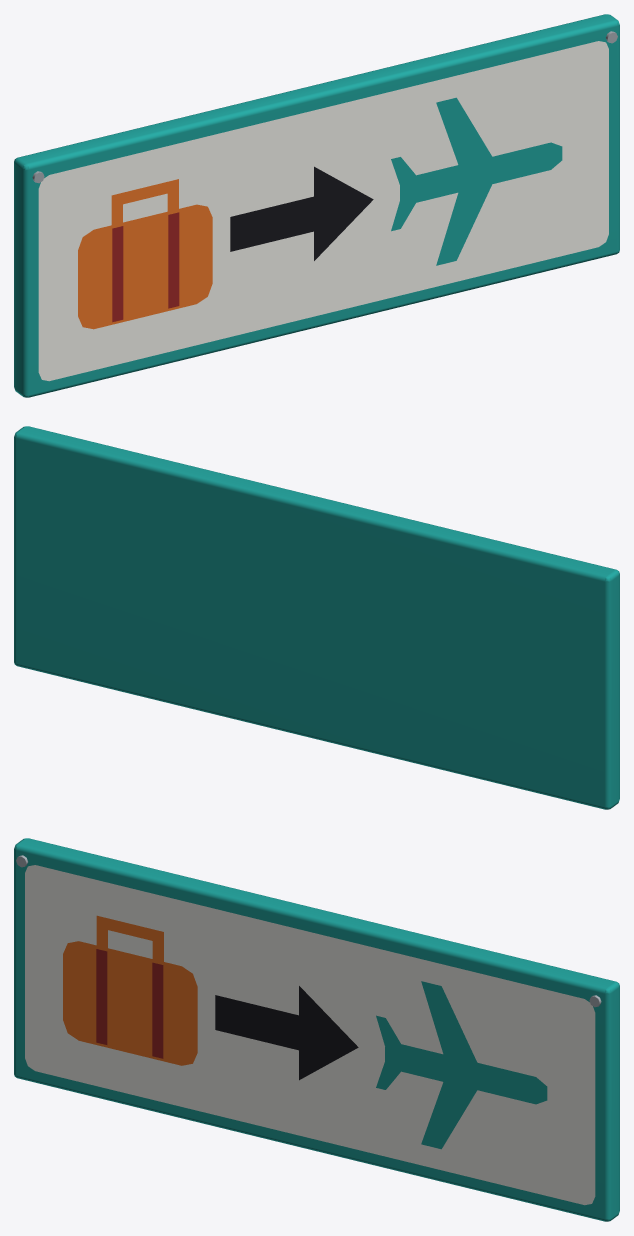
File: CartelSalida.fbx
The picture shows the model from 3 angles, top to bottom: view 1: azimuth 30°, elevation 25°; view 2: azimuth 150°, elevation 25°; view 3: azimuth 330°, elevation 25°; orthographic projection.
Visible parts, largest first — view 1: CartelSalida; view 2: CartelSalida; view 3: CartelSalida.
Boxes of the visible parts, <box> form: CartelSalida: <box>14,14,619,397</box>; CartelSalida: <box>14,426,619,809</box>; CartelSalida: <box>14,838,619,1221</box>.
Size of the model in its own units: 8 by 3 by 0.36.
Materials: 1 (1 with a texture image).
